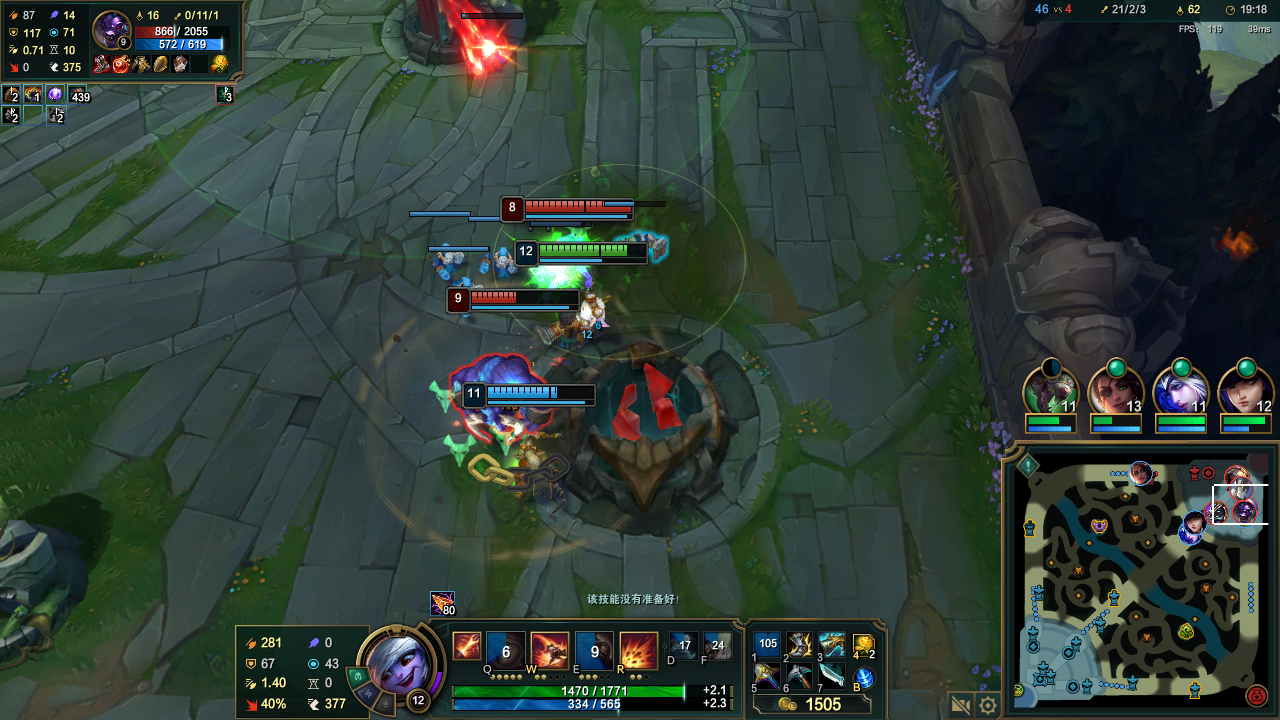DFYX: (521, 194, 590, 227), (465, 288, 559, 309)
WFXB: (479, 233, 518, 287), (427, 240, 470, 279), (618, 228, 671, 251)
